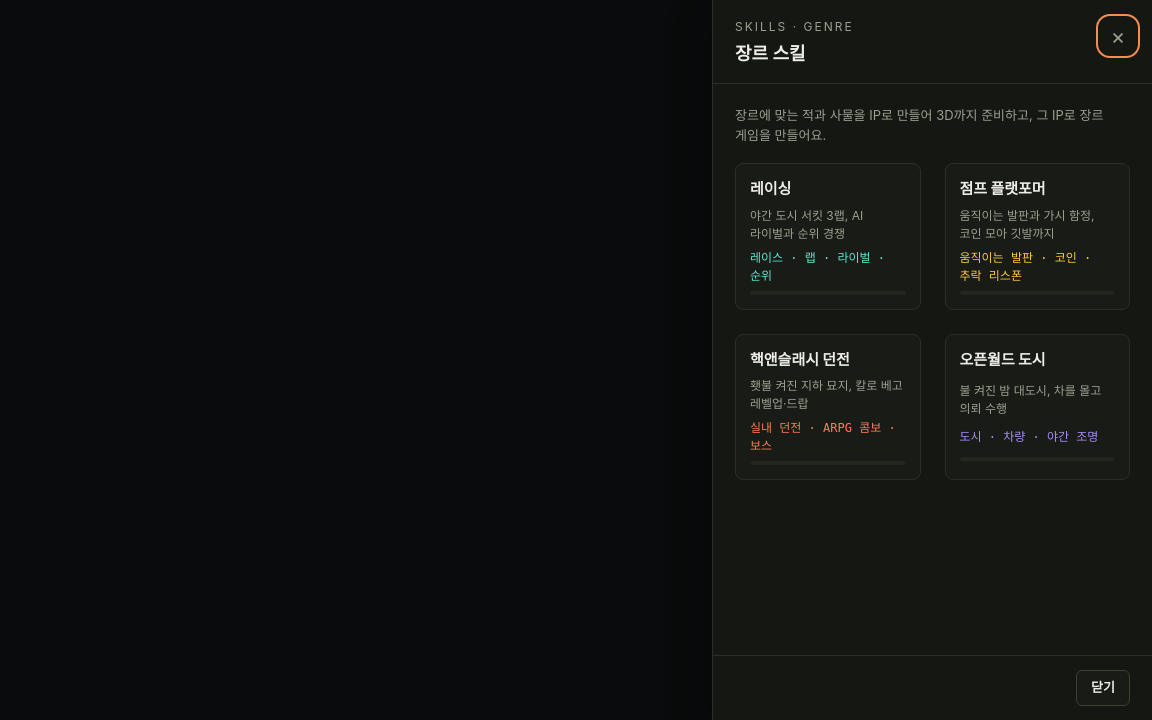
Test: R20-38 장르 스킬 says what its button starts and asks before it starts › counts what it will make and how long that takes on the button
Click the button "레이싱 야간 도시 서킷 3랩, AI 라이벌과 순위 경쟁 레이스 · 랩 · 라이벌 · 순위": point(828, 236) left=735, top=163, right=920, bottom=310
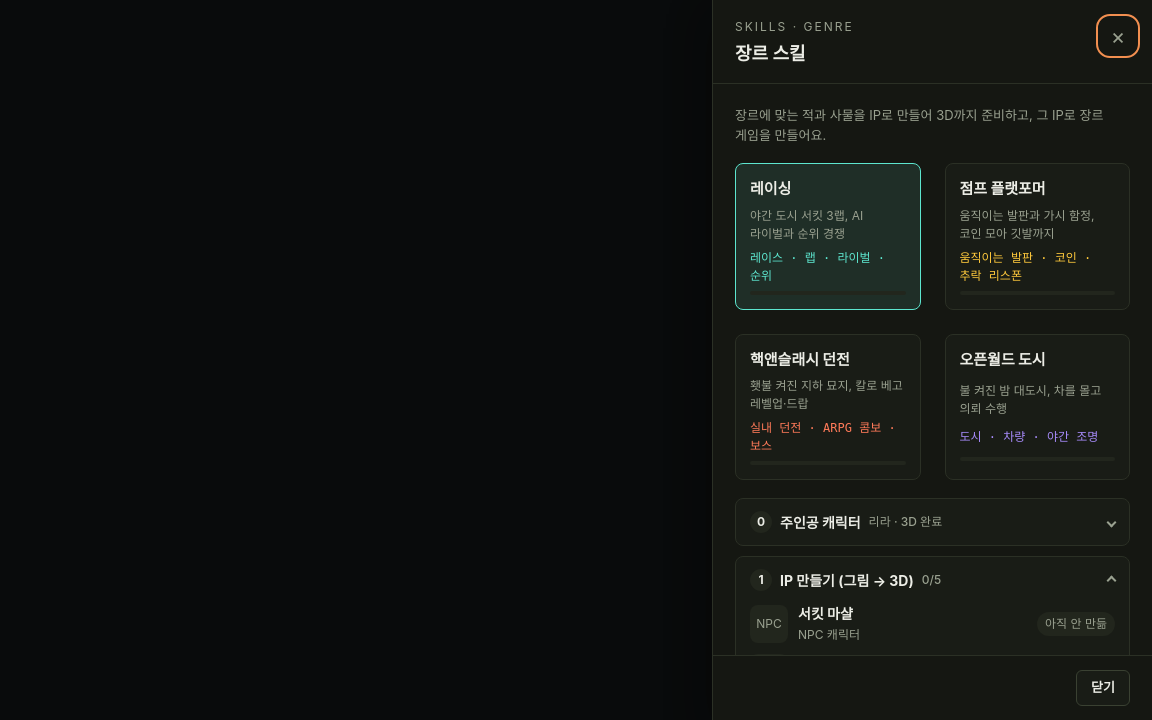
Click the button "레이싱 야간 도시 서킷 3랩, AI 라이벌과 순위 경쟁 레이스 · 랩 · 라이벌 · 순위": point(828, 236) left=735, top=163, right=920, bottom=310
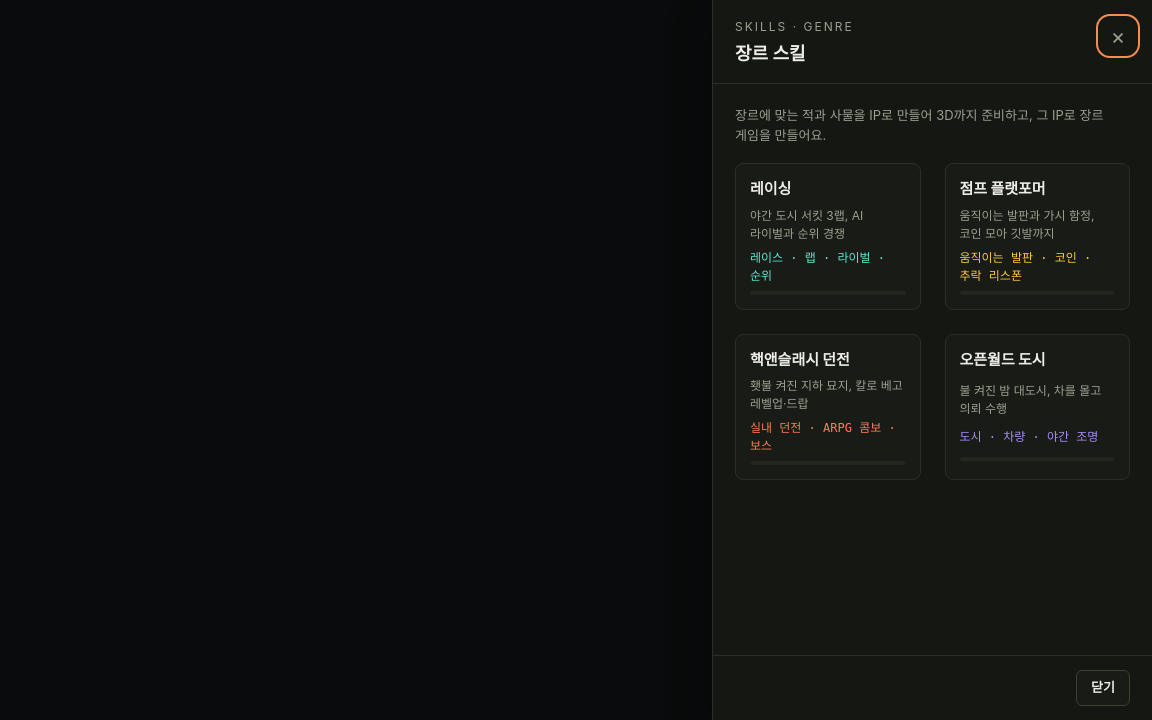
Click the button "핵앤슬래시 던전 횃불 켜진 지하 묘지, 칼로 베고 레벨업·드랍 실내 던전 · ARPG 콤보 · 보스": point(828, 407) left=735, top=334, right=920, bottom=480
(page scrolled)
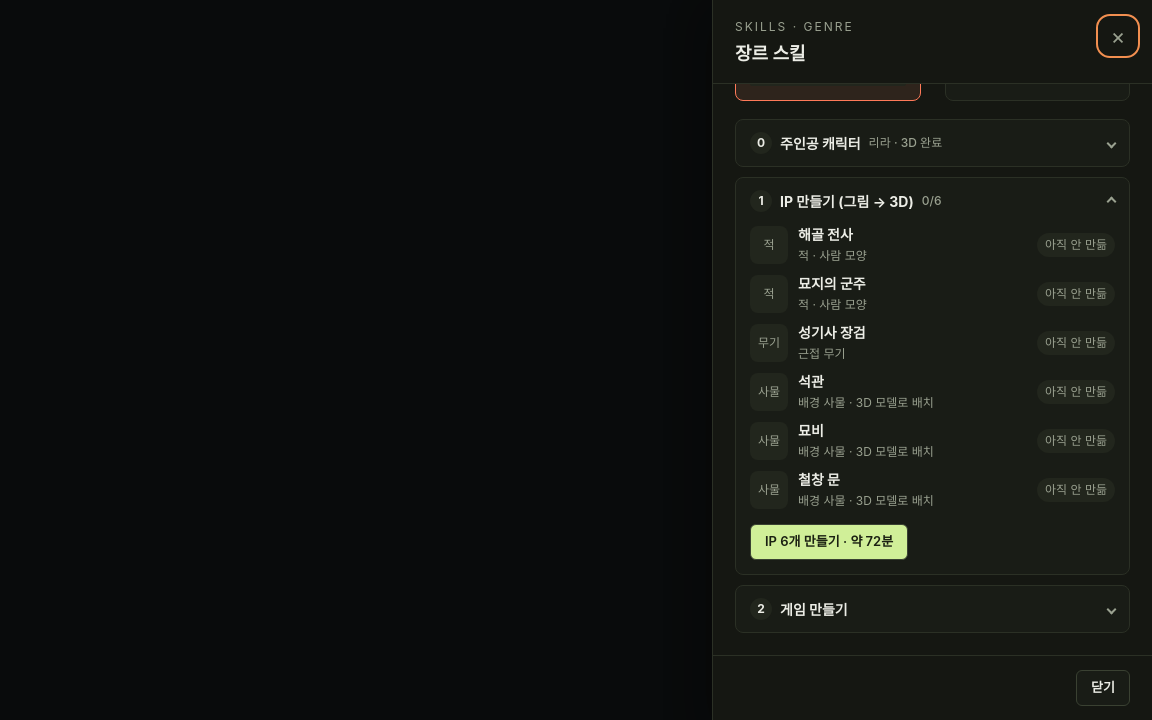
Check: the button "IP 6개 만들기 · 약 72분" is shown, box left=750, top=524, right=908, bottom=560
